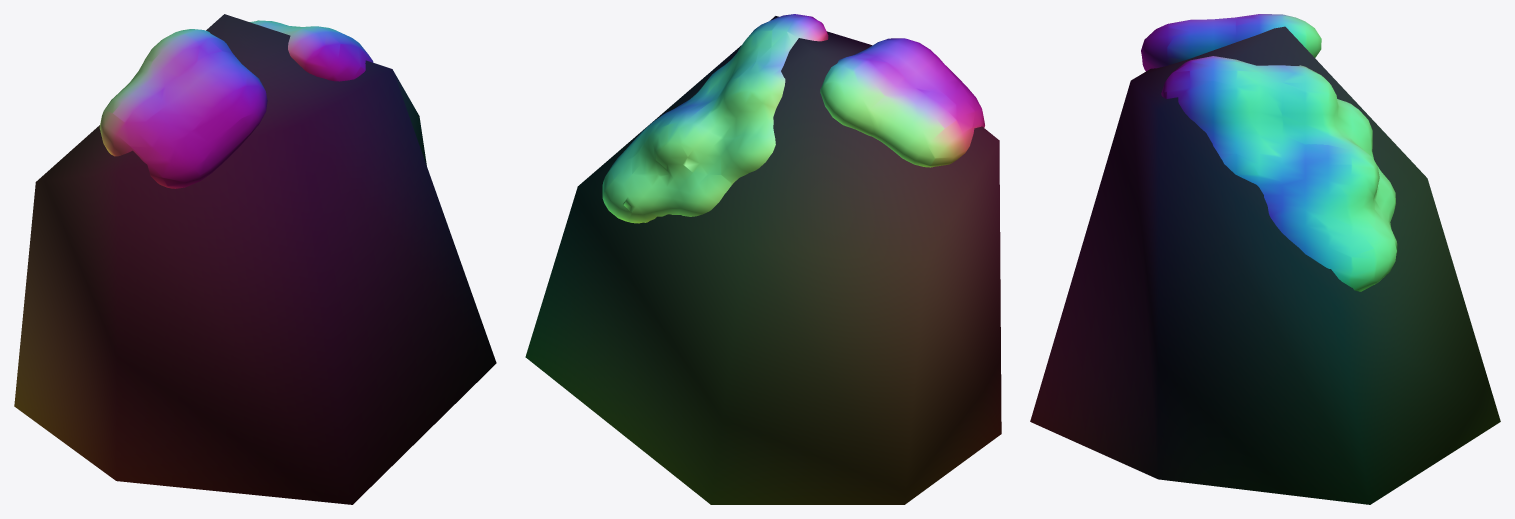
The model's file is rock1.fbx.
The picture shows the model from 3 angles, left to right: view 1: azimuth 30°, elevation 25°; view 2: azimuth 150°, elevation 25°; view 3: azimuth 270°, elevation 25°; orthographic projection. The views are drawn at different scales.
Visible parts, largest first — view 1: Rock, Snow 1; view 2: Rock, Snow 1; view 3: Rock, Snow 1.
Part boxes in pixels (<box>): Rock: <box>14,14,496,504</box>; Snow 1: <box>99,20,373,188</box>; Rock: <box>525,16,1001,504</box>; Snow 1: <box>602,14,984,223</box>; Rock: <box>1030,26,1500,504</box>; Snow 1: <box>1141,14,1397,291</box>.
Bounding box in the file's own units: 234 × 215 × 232.
